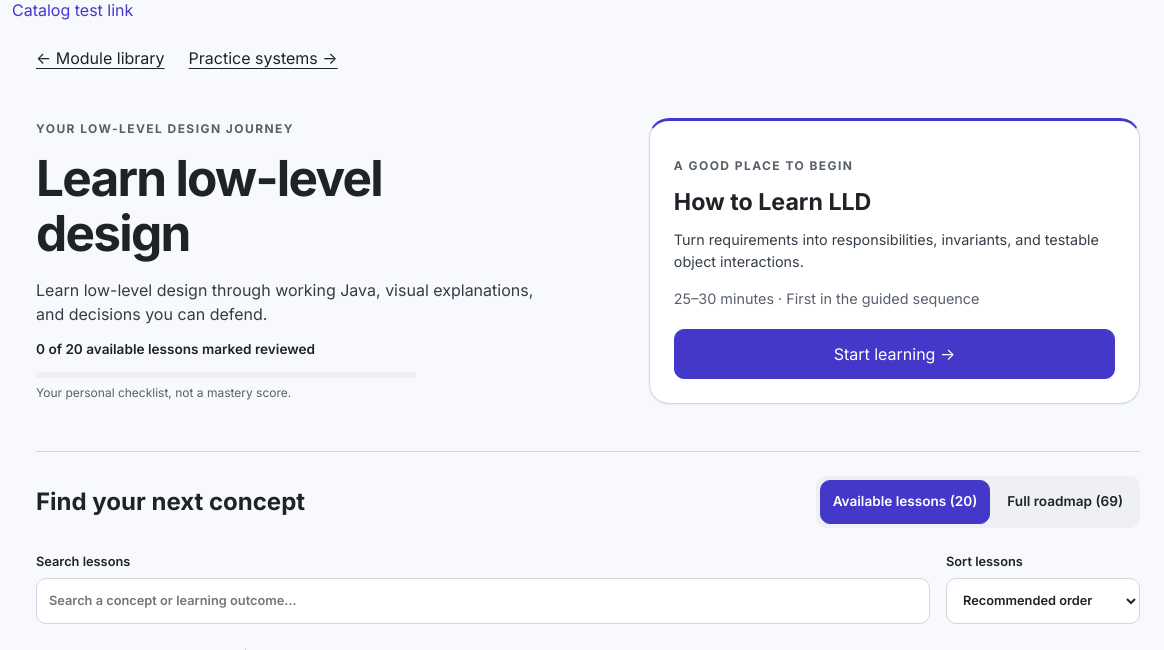
Test: Published curriculum learning journey › distinguishes the available lesson from planned topics and filters search accessibly
The image size is (1164, 650).
In the search field labelled "Search lessons": [483, 601] box left=36, top=578, right=930, bottom=624, type "SOLID"
(page scrolled)
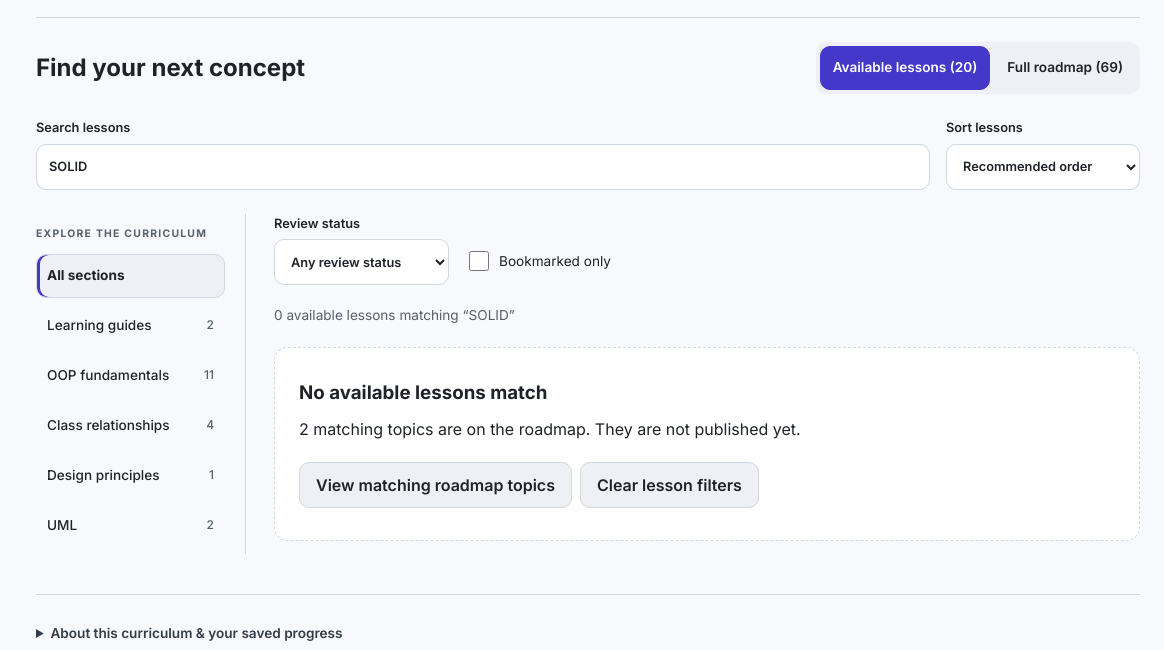
expect the message shows "0 available lessons": met, box left=274, top=307, right=515, bottom=323
Click the button "View matching roadmap topics": [435, 485] box left=299, top=462, right=572, bottom=508
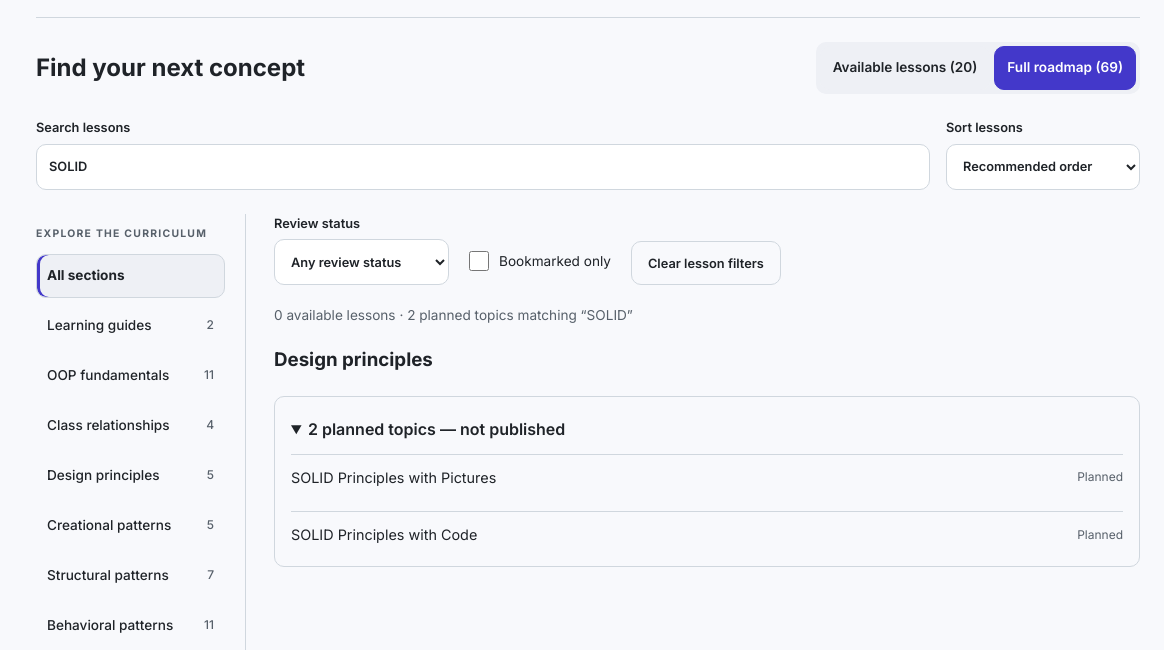
expect the text "SOLID Principles with Pictures" is shown: met, box left=291, top=467, right=496, bottom=489
expect the text "SOLID Principles with Code" is shown: met, box left=291, top=524, right=477, bottom=546
expect the message shows "0 available lessons · 2 planned topics": met, box left=274, top=307, right=633, bottom=323
Replace the text in the search field with "no-match": [483, 167] box left=36, top=144, right=930, bottom=190
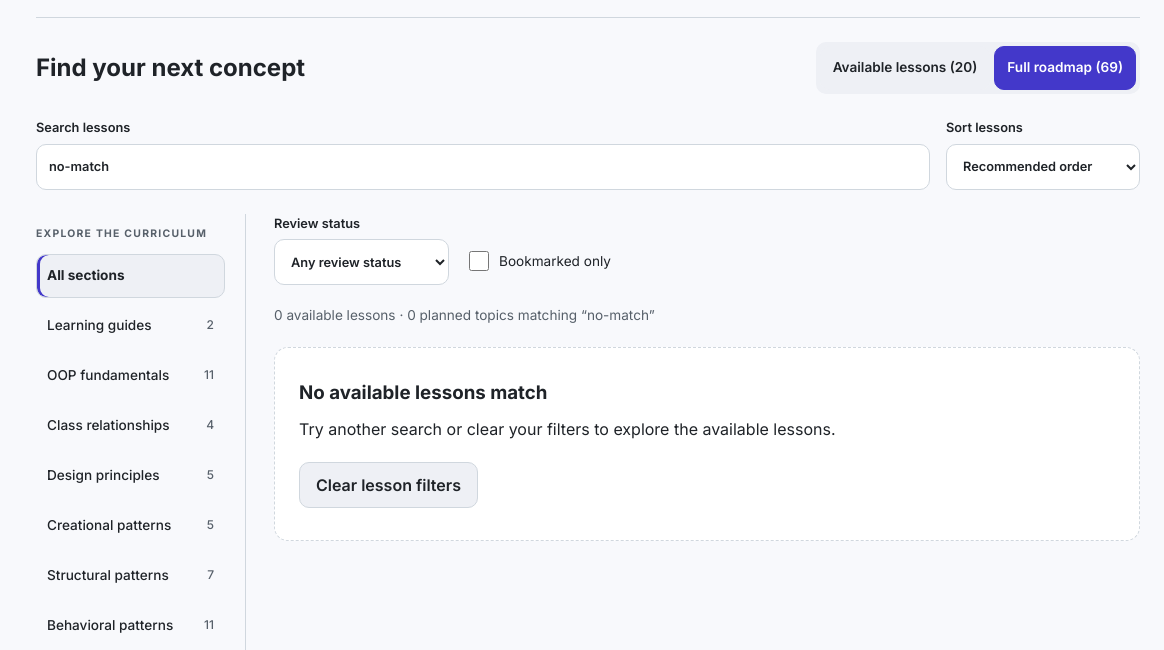
Click the button "Clear lesson filters": [388, 485] box left=299, top=462, right=478, bottom=508
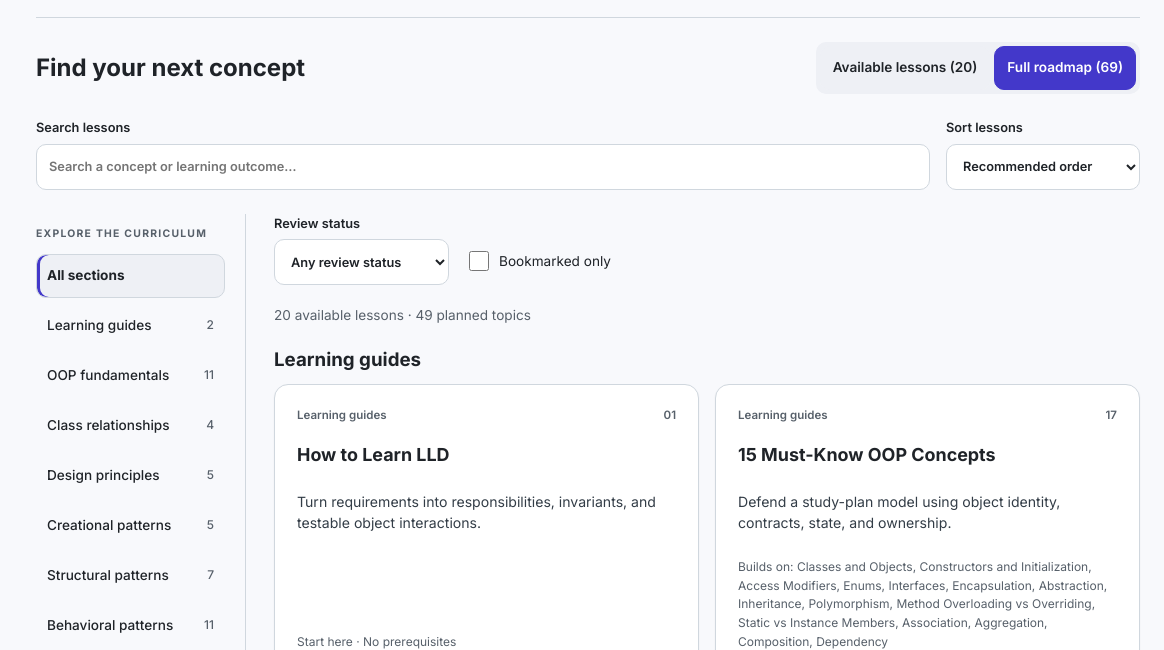
expect the search field is empty: met, box left=36, top=144, right=930, bottom=190
